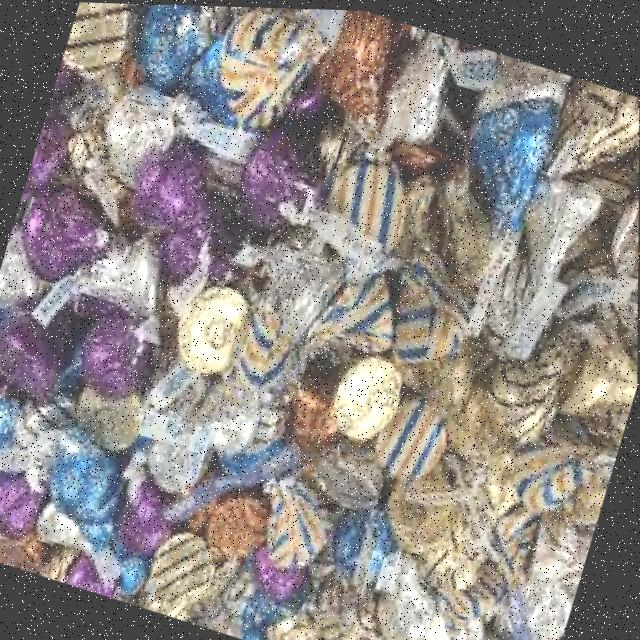kisses: (488, 161, 605, 325), (55, 202, 178, 335), (96, 68, 193, 183), (357, 540, 454, 640), (191, 367, 275, 463), (135, 408, 217, 502)
